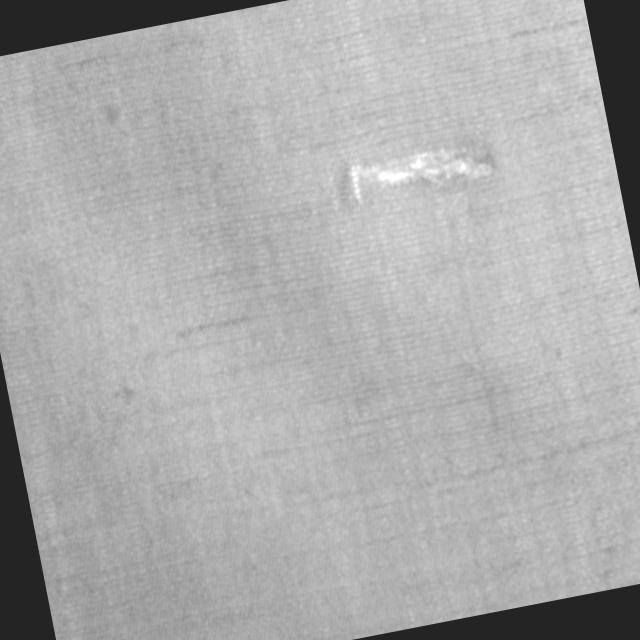hole: (339, 120, 503, 211)
